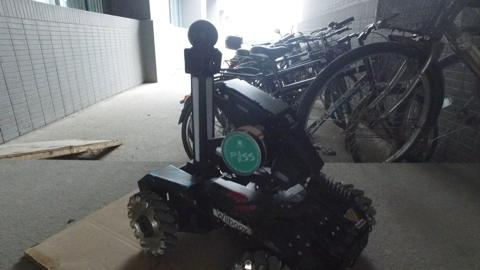bike: (292, 10, 477, 152)
chariot: (111, 17, 377, 261)
